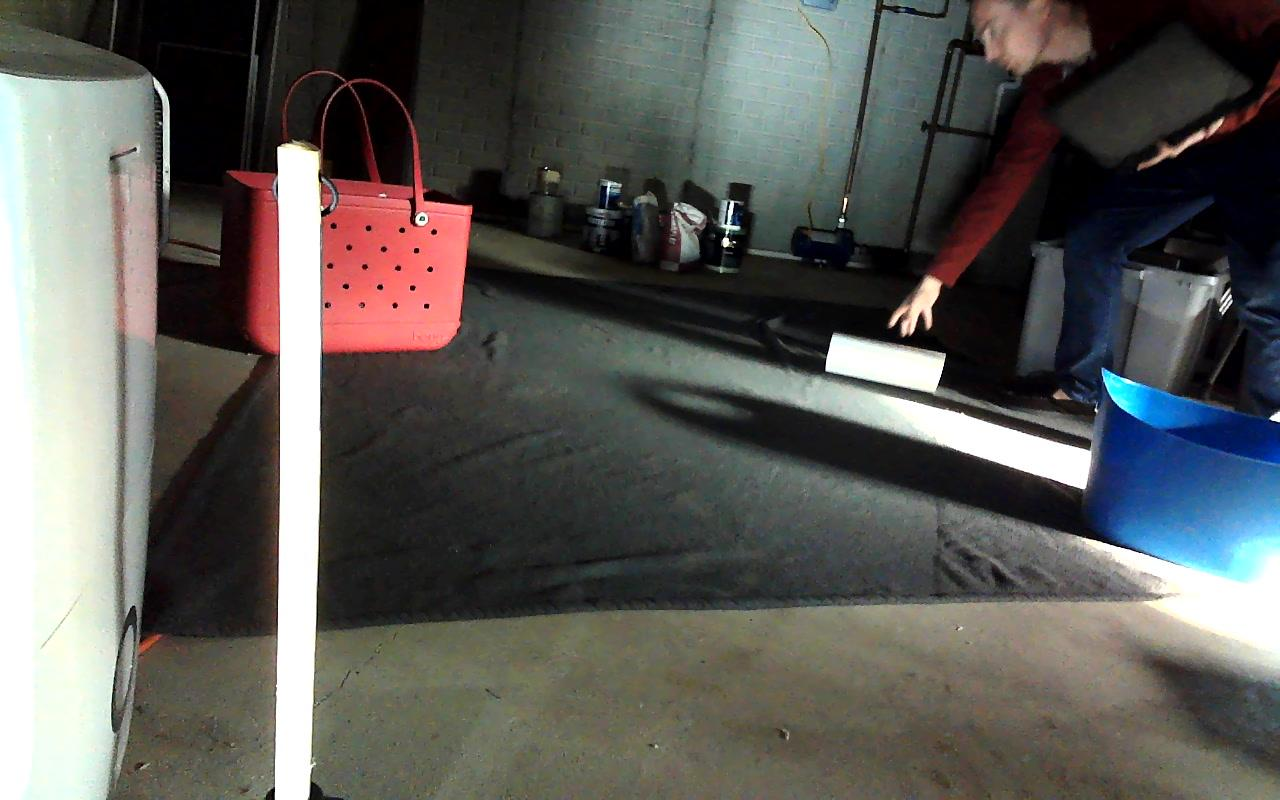coral: (825, 331, 946, 396)
